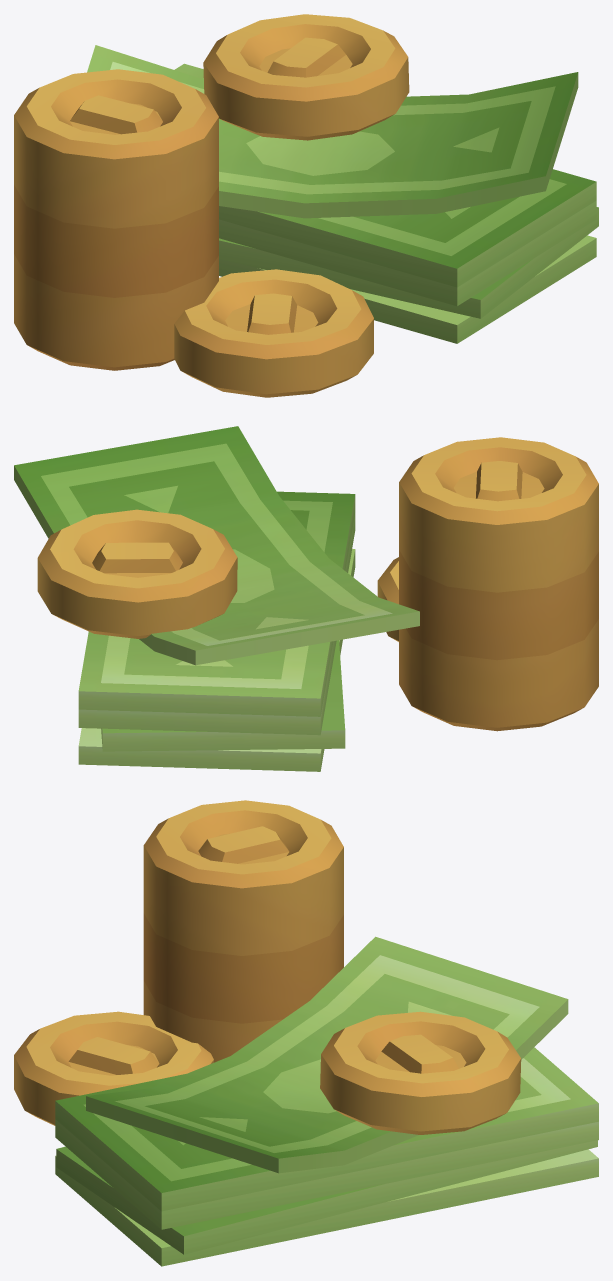
The model's file is money_pile_small.glb.
3 views of the same model, one above another, from view 1: azimuth 30°, elevation 25°; view 2: azimuth 150°, elevation 25°; view 3: azimuth 270°, elevation 25° (orthographic). The views are drawn at different scales.
Visible parts, largest first — view 1: Money_Pile_Small; view 2: Money_Pile_Small; view 3: Money_Pile_Small.
Boxes of the visible parts, <box> form: Money_Pile_Small: <box>14,14,598,397</box>; Money_Pile_Small: <box>14,426,598,771</box>; Money_Pile_Small: <box>14,800,598,1266</box>.
Bounding box in the file's own units: 0.791 × 0.3 × 0.7217.
Materials: 1 (1 with a texture image).
